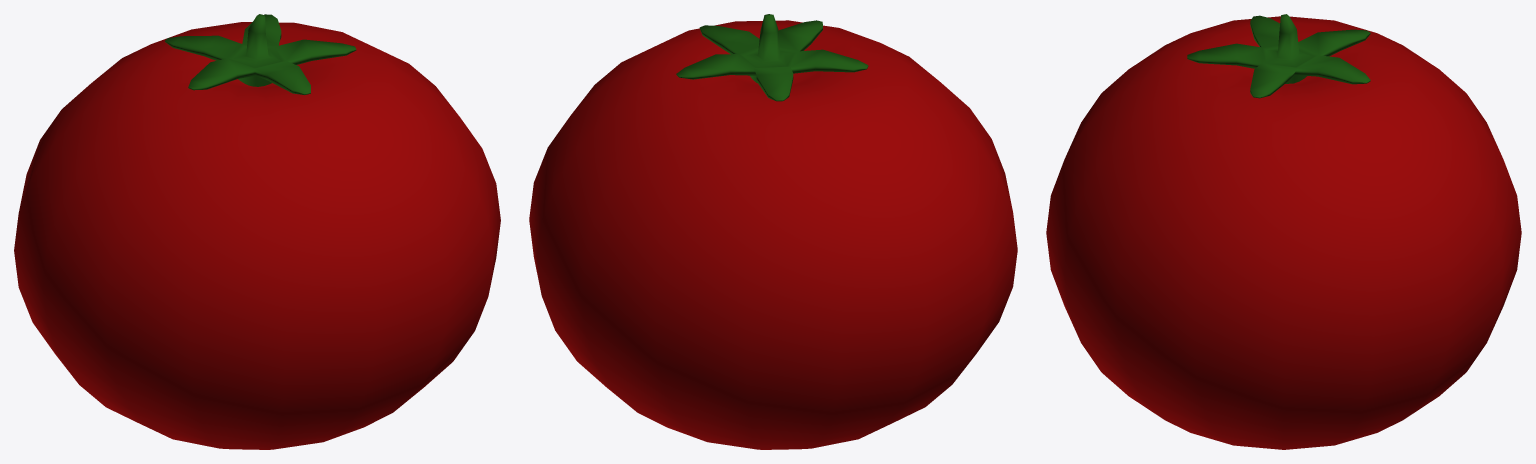
The model's file is tomato.glb.
The picture shows the model from 3 angles, left to right: view 1: azimuth 30°, elevation 25°; view 2: azimuth 150°, elevation 25°; view 3: azimuth 270°, elevation 25°; orthographic projection.
Visible parts, largest first — view 1: tomato, leafs; view 2: tomato, leafs; view 3: tomato, leafs.
Part boxes in pixels (bbox=[...]): tomato: bbox=[14, 22, 500, 449]; leafs: bbox=[165, 14, 356, 94]; tomato: bbox=[529, 20, 1017, 449]; leafs: bbox=[676, 14, 868, 101]; tomato: bbox=[1046, 16, 1521, 449]; leafs: bbox=[1187, 14, 1370, 98].
Size of the model in its own units: 3.16 by 2.89 by 3.03.
